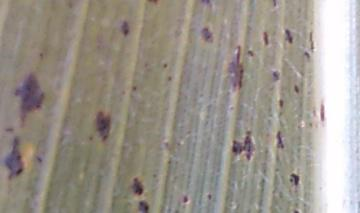tarspot: (12, 71, 46, 128), (224, 44, 246, 94), (2, 136, 25, 180), (139, 100, 175, 128), (229, 129, 256, 161), (92, 109, 113, 144), (130, 176, 145, 197), (199, 25, 213, 44), (274, 128, 286, 150), (307, 28, 317, 53), (282, 27, 294, 46), (119, 18, 131, 37), (287, 171, 301, 187), (318, 101, 327, 123), (136, 198, 149, 213), (269, 68, 282, 83), (261, 30, 271, 48), (31, 152, 43, 163), (197, 1, 215, 8), (180, 193, 190, 205), (3, 126, 16, 135), (301, 50, 312, 60), (144, 1, 161, 7), (292, 83, 300, 95), (37, 51, 46, 61), (277, 97, 285, 108), (269, 1, 279, 9), (245, 49, 255, 57), (305, 121, 314, 129), (162, 140, 169, 150), (161, 61, 169, 69), (174, 140, 182, 148), (66, 1, 73, 10), (227, 104, 236, 111), (206, 192, 212, 202), (166, 75, 173, 83), (165, 157, 172, 165), (185, 128, 192, 136), (131, 84, 137, 92), (291, 208, 300, 213), (150, 172, 157, 178)
